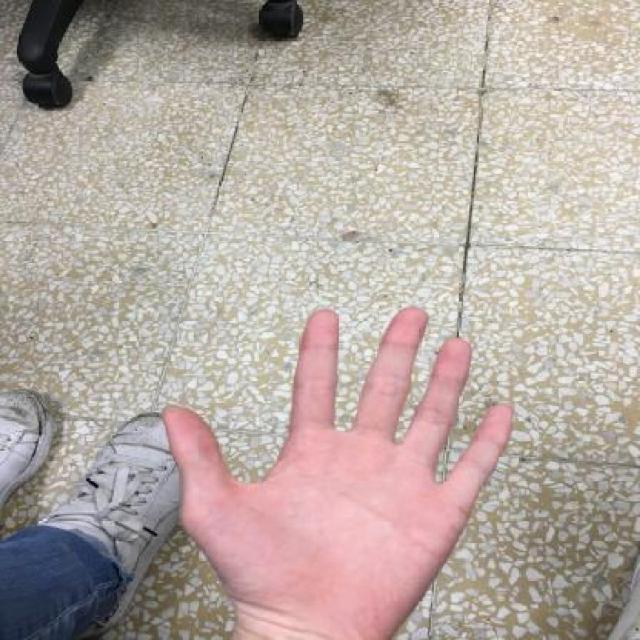bare_hand: (144, 296, 530, 638)
